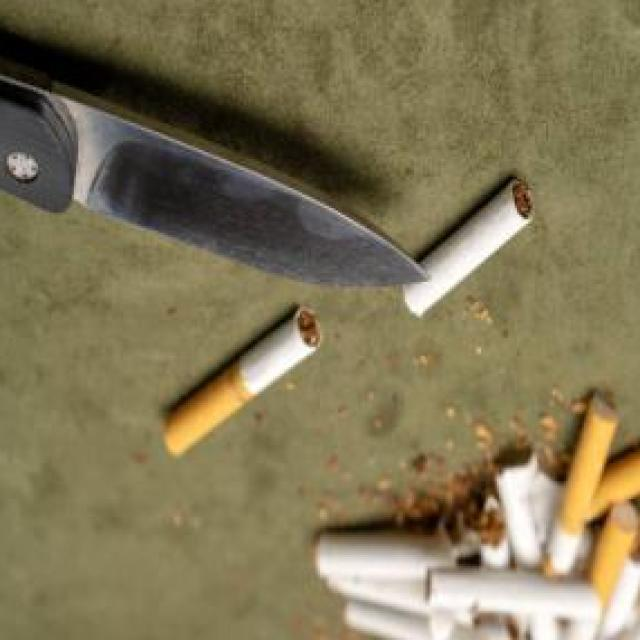knife: (0, 54, 432, 288)
